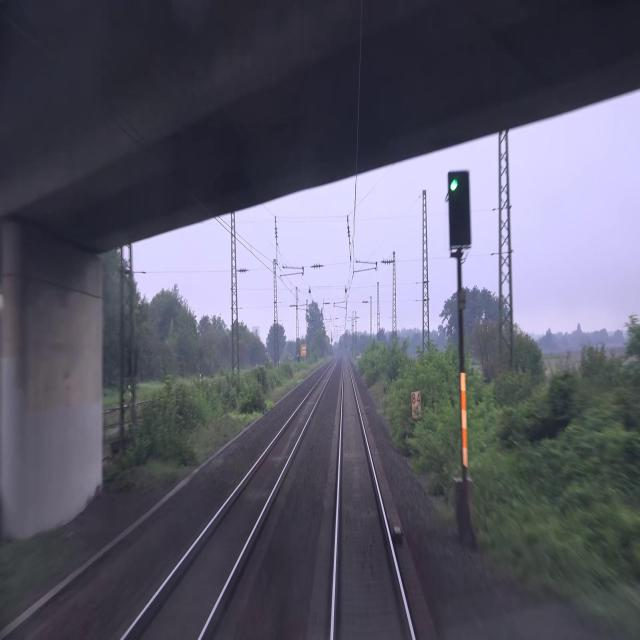rail-track: (126, 368, 330, 639), (335, 360, 411, 639)
